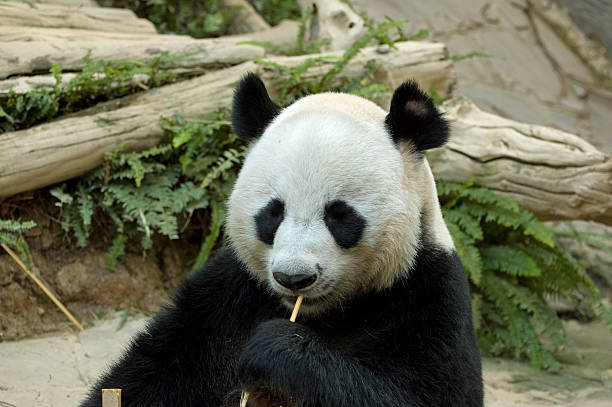panda: (201, 55, 461, 344)
